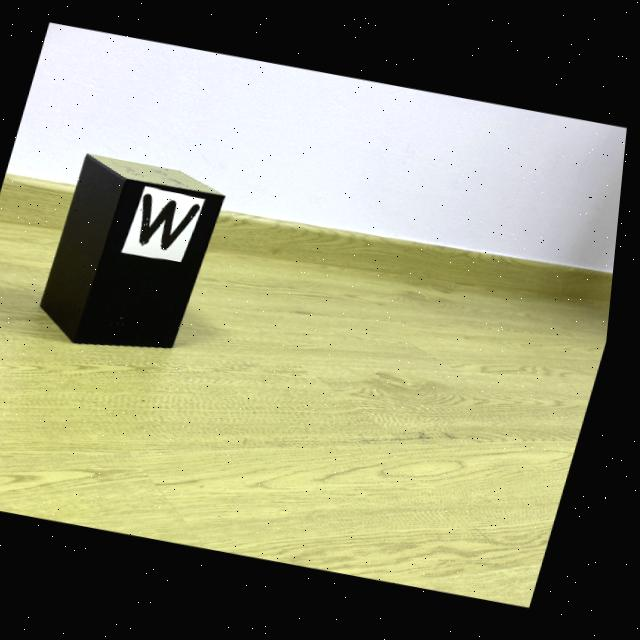W: (144, 195, 204, 250)
